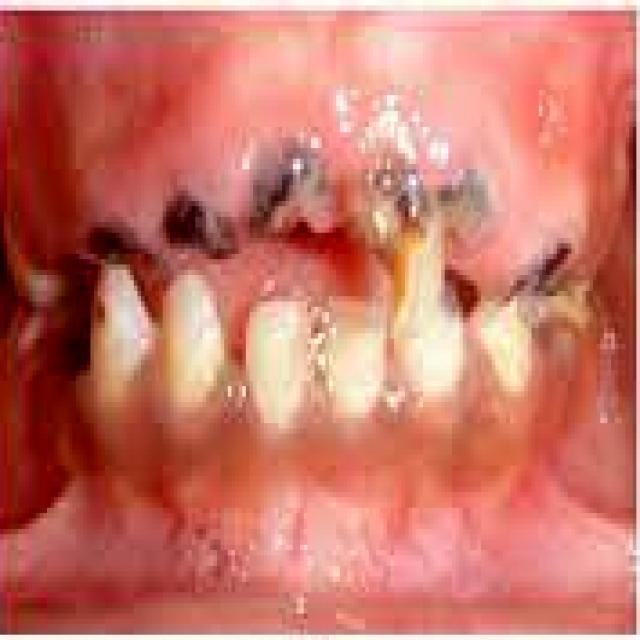cariess: (87, 138, 499, 280), (470, 243, 593, 328)
